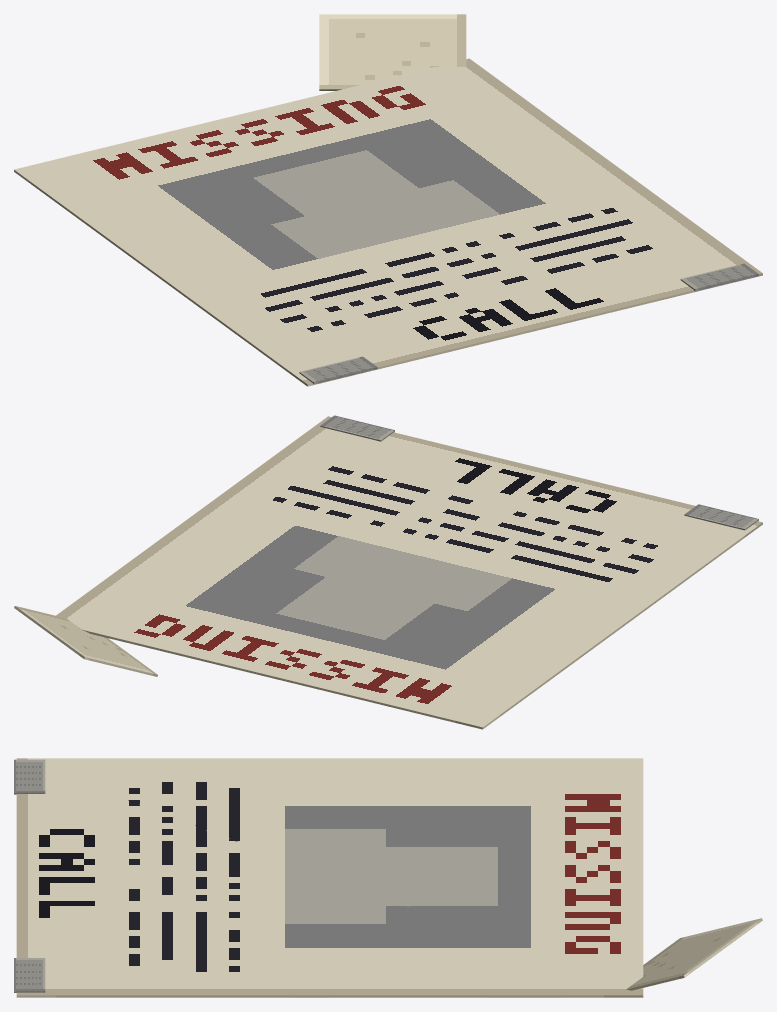
Rendered from INV_MissingPoster.glb.
The picture shows the model from 3 angles, top to bottom: view 1: azimuth 30°, elevation 25°; view 2: azimuth 150°, elevation 25°; view 3: azimuth 270°, elevation 25°; orthographic projection. The views are drawn at different scales.
Parts seen in each view (by area): view 1: INV_MissingPoster_Mesh; view 2: INV_MissingPoster_Mesh; view 3: INV_MissingPoster_Mesh.
Boxes of the visible parts, left/top/right/bottom form: INV_MissingPoster_Mesh: left=14, top=14, right=762, bottom=386; INV_MissingPoster_Mesh: left=14, top=415, right=762, bottom=729; INV_MissingPoster_Mesh: left=14, top=758, right=762, bottom=997.
Size of what is drawn, in the model's own units: 0.2226 by 0.0178 by 0.2869.
Materials: 1 (1 with a texture image).
